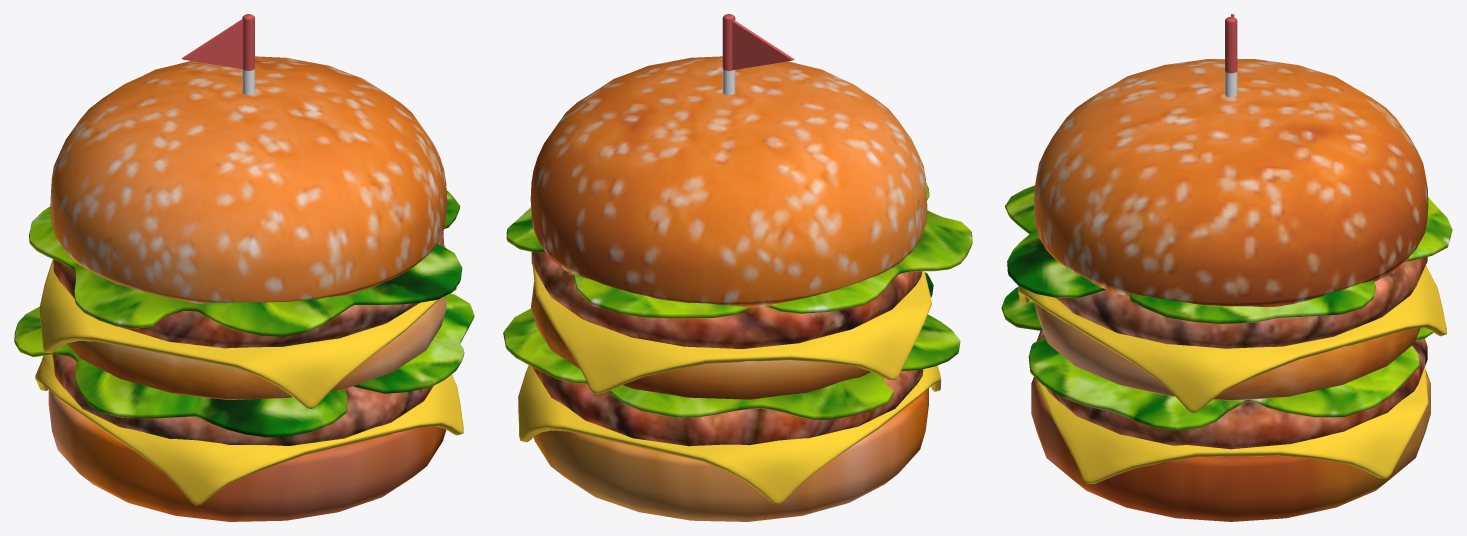
File: Burger.fbx
3 views of the same model, side by side, from view 1: azimuth 30°, elevation 25°; view 2: azimuth 150°, elevation 25°; view 3: azimuth 270°, elevation 25° (orthographic).
Visible parts, largest first — view 1: Burger; view 2: Burger; view 3: Burger.
Boxes of the visible parts, bbox=[...] form: Burger: bbox=[14, 14, 474, 521]; Burger: bbox=[503, 14, 972, 521]; Burger: bbox=[1001, 14, 1452, 521].
Size of the model in its own units: 18.37 by 19.42 by 18.34.
